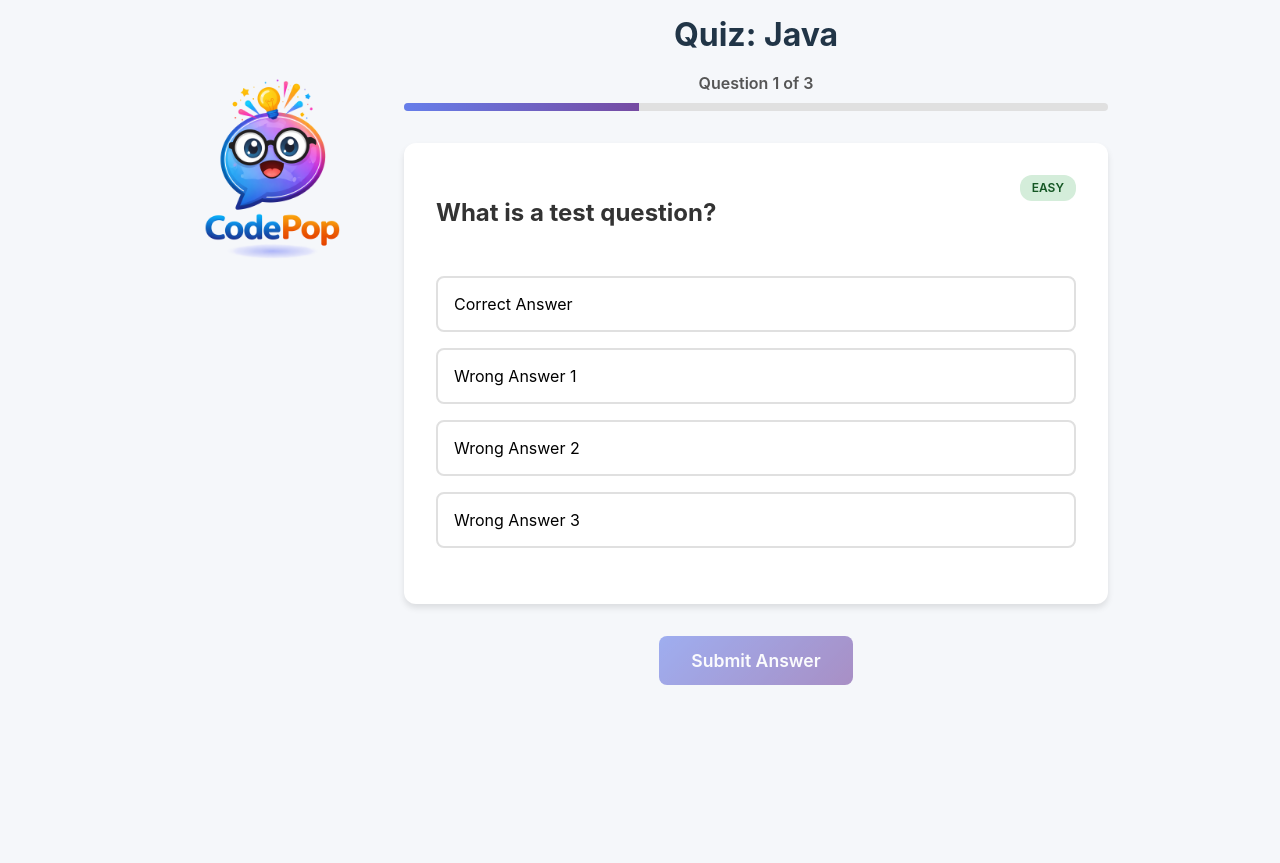
Scenario: QuizPage › progresses to next question after clicking next
The width and height of the screenshot is (1280, 863).
Expected: the text "What is a test question?" is shown, [436,198,716,227]
Click the button "Correct Answer": click(513, 304) [436,276,1076,332]
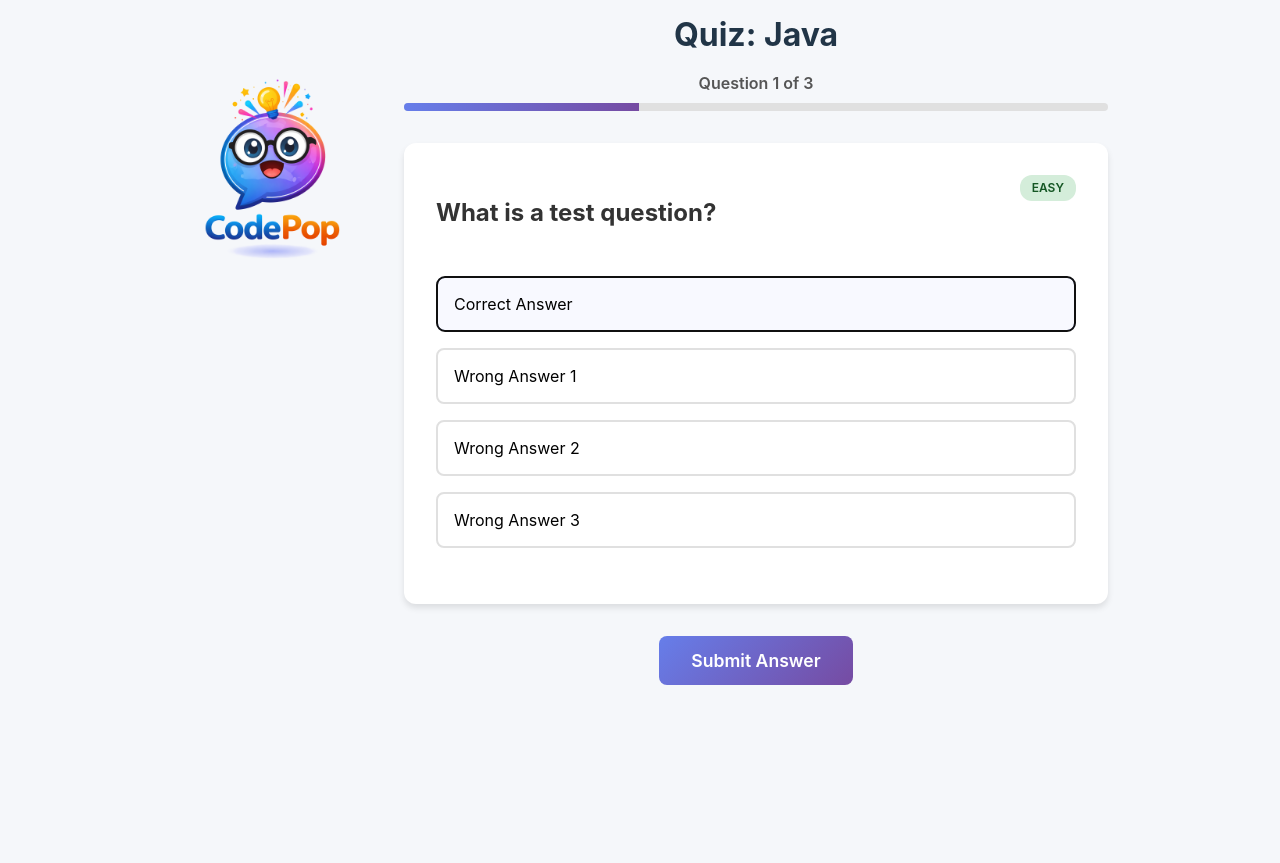
Click the button "Submit Answer": click(756, 660) [659,636,853,685]
(page scrolled)
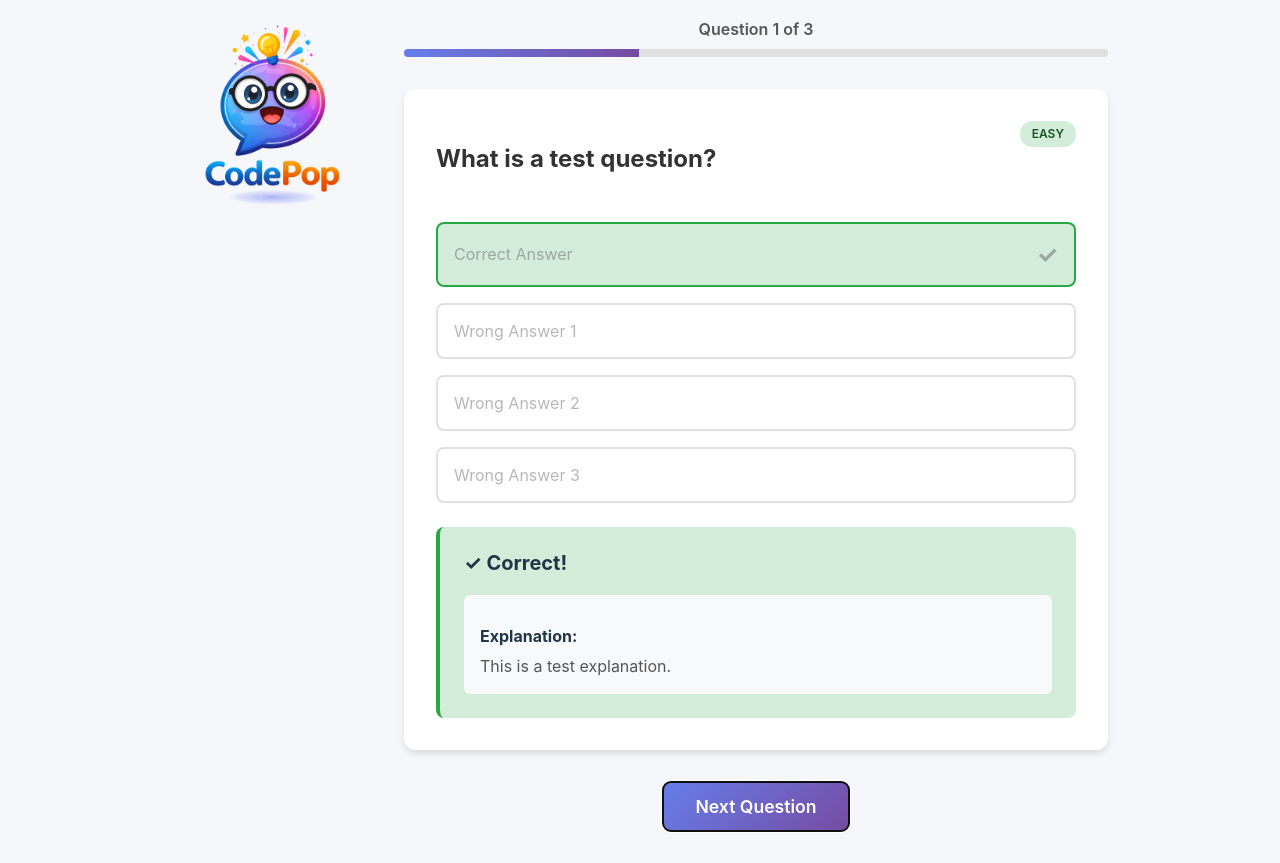
Click the button "Next Question": click(756, 806) [664,782,849,831]
(page scrolled)
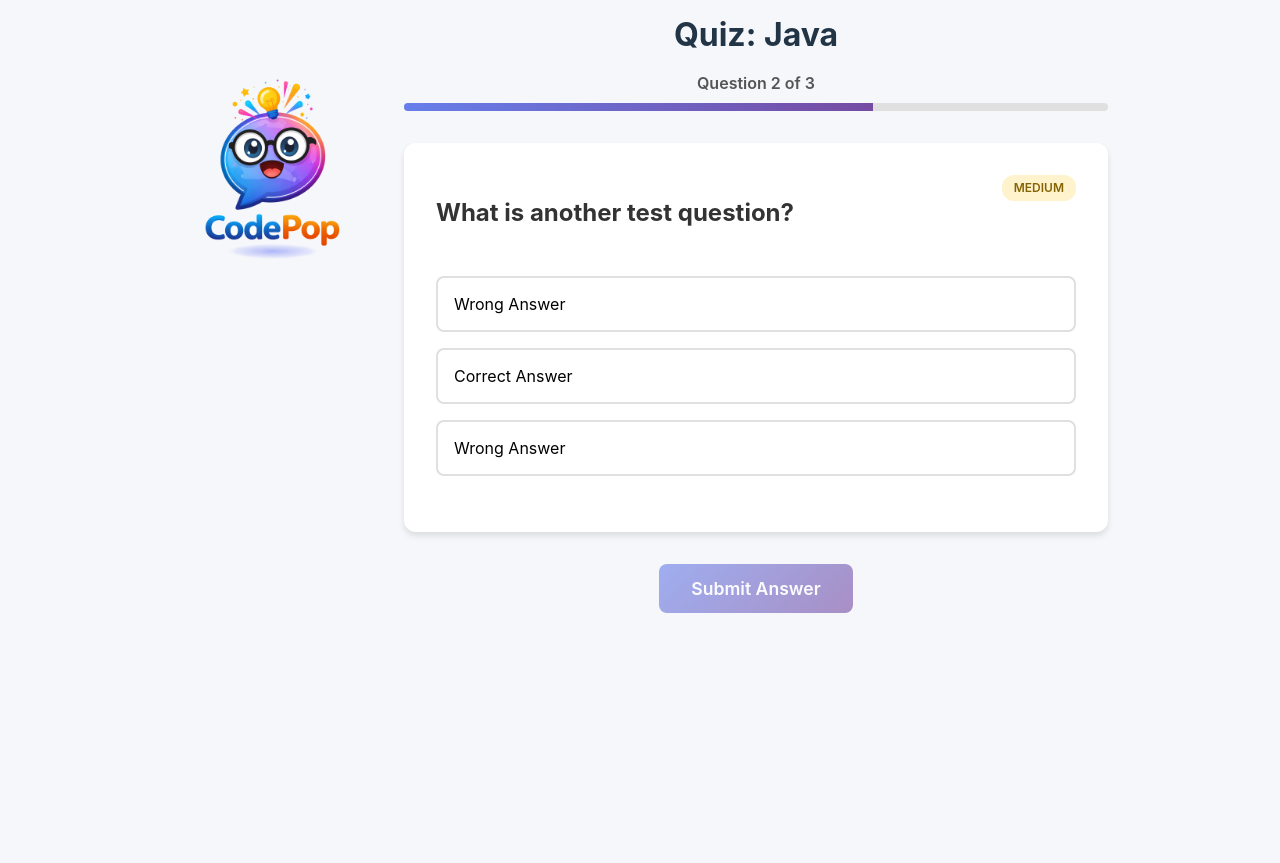
Expected: the text "What is another test question?" is shown, [436,198,794,227]
Expected: the text "Question 2 of 3" is shown, [697,73,815,93]
